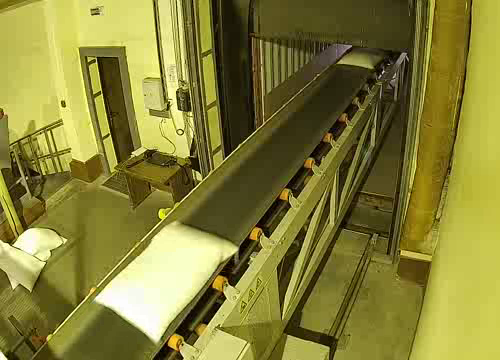bag: (92, 219, 242, 344), (337, 47, 387, 71)
